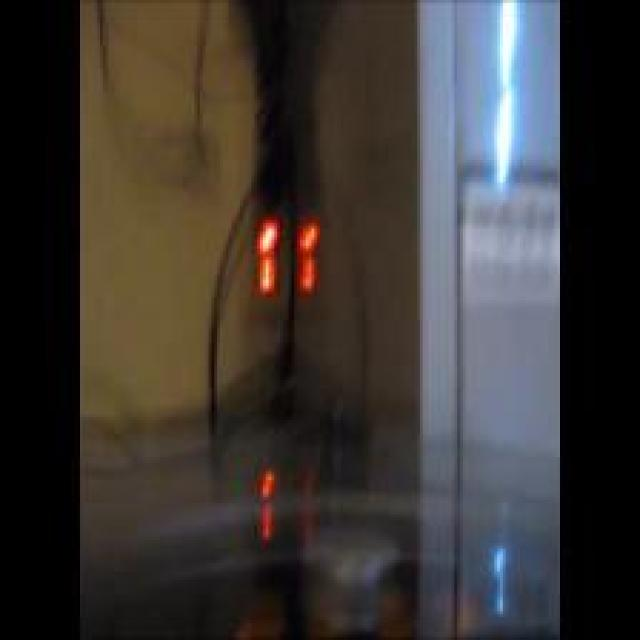other: (243, 193, 323, 301), (249, 448, 309, 552)
